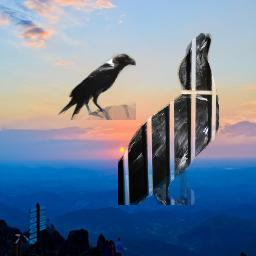Crow: (118, 33, 219, 205), (55, 51, 136, 120)
